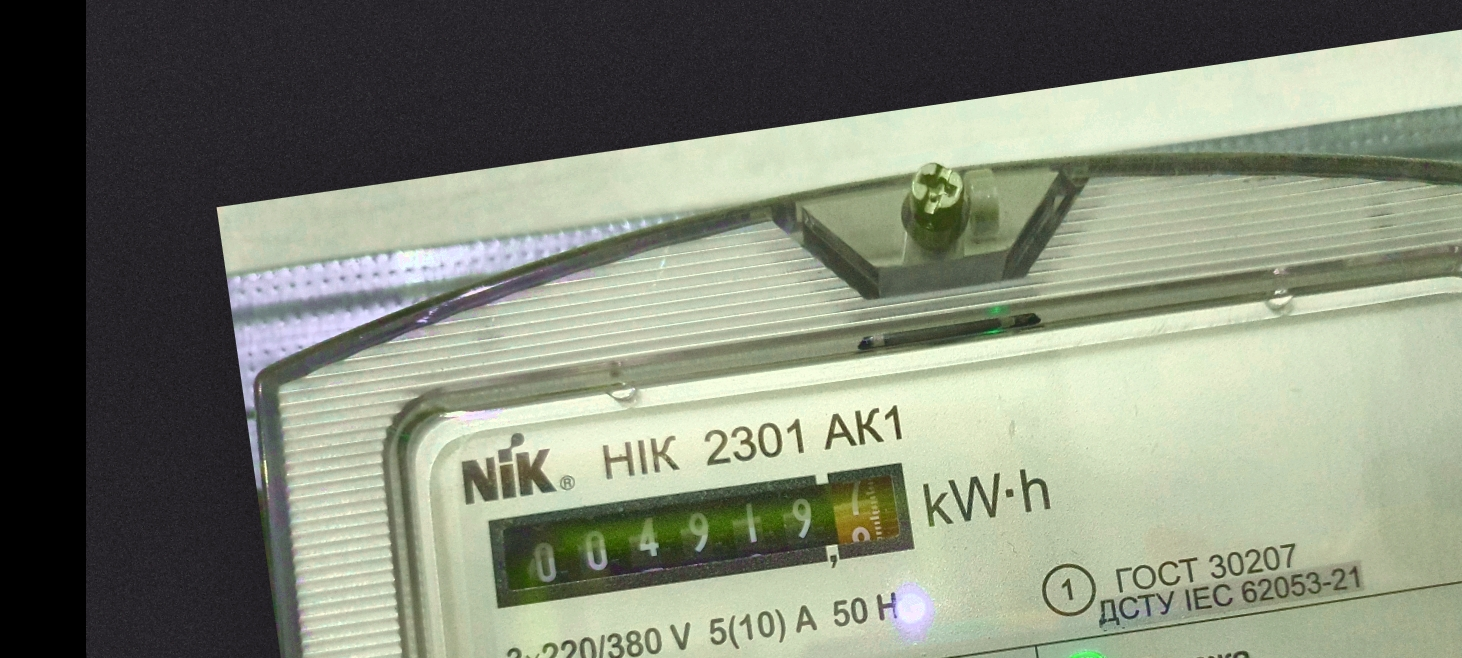0: (580, 525, 612, 573), (530, 537, 559, 584)
1: (740, 498, 761, 545)
4: (631, 512, 661, 559)
7: (839, 476, 867, 518)
9: (787, 492, 817, 542), (685, 508, 714, 555)
screen: (472, 444, 934, 627)
